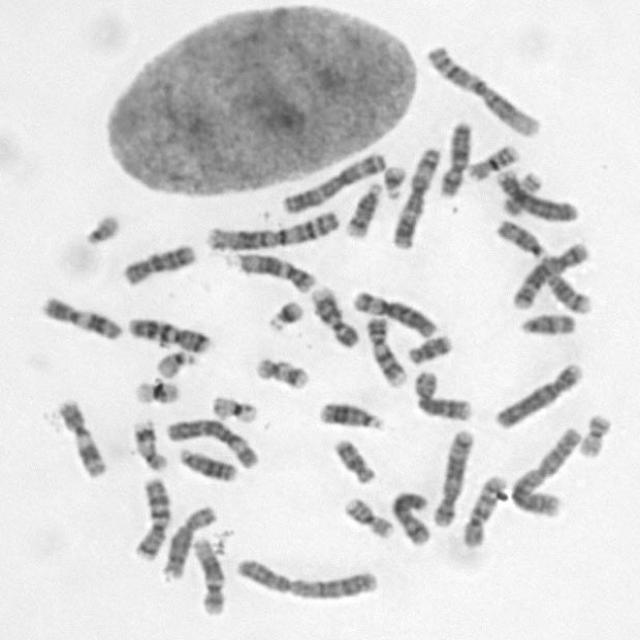A1: (421, 40, 544, 138), (201, 204, 343, 252)
A2: (231, 552, 382, 602), (508, 422, 585, 518)
A3: (278, 146, 389, 214), (389, 141, 444, 250)
B4: (492, 358, 586, 430), (493, 164, 580, 222)
B5: (507, 237, 593, 311), (428, 423, 477, 527)
C10: (457, 469, 509, 549), (118, 238, 198, 287)
C11: (52, 395, 110, 479), (35, 290, 125, 342)
C12: (230, 247, 318, 293), (188, 532, 229, 616)
C6: (161, 413, 261, 470), (349, 285, 440, 339)
C7: (123, 311, 214, 355), (129, 472, 172, 562)
C8: (159, 500, 220, 580), (410, 364, 476, 423)
C9: (307, 280, 362, 348), (361, 311, 410, 387)
D13: (174, 441, 240, 483), (316, 397, 387, 432)
D14: (540, 260, 594, 315), (342, 176, 386, 239)
D15: (492, 214, 550, 259), (516, 308, 579, 337)
E16: (339, 492, 396, 540), (462, 139, 522, 183)
E17: (251, 352, 313, 391), (129, 416, 170, 472)
E18: (329, 433, 380, 485), (404, 329, 455, 365)
F19: (207, 390, 261, 424), (129, 374, 183, 406)
F20: (574, 408, 613, 458), (501, 173, 542, 217)
G21: (263, 294, 307, 333), (379, 160, 409, 200)
G22: (80, 208, 122, 246), (152, 346, 199, 379)
X: (434, 116, 474, 198), (386, 486, 435, 547)
